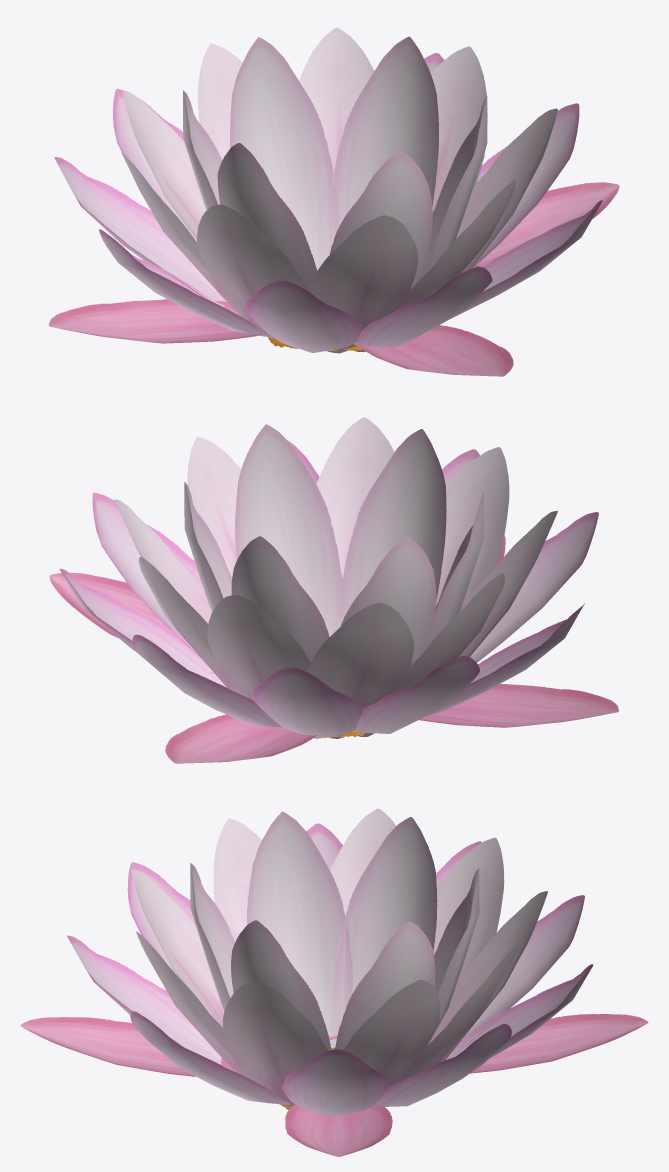
Rendered from Flower.fbx.
3 renders of one model, top to bottom at view 1: azimuth 30°, elevation 25°; view 2: azimuth 150°, elevation 25°; view 3: azimuth 270°, elevation 25°, orthographic. The views are drawn at different scales.
Parts seen in each view (by area): view 1: Flower; view 2: Flower; view 3: Flower.
Part boxes in pixels (left/top/right/bottom): Flower: left=48, top=27, right=619, bottom=376; Flower: left=49, top=417, right=618, bottom=763; Flower: left=20, top=808, right=648, bottom=1156.
Bounding box in the file's own units: 32.58 × 12.9 × 32.58.
